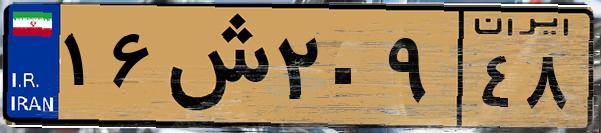0: (330, 28, 385, 110)
1: (57, 26, 110, 100)
2: (270, 28, 330, 110)
4: (475, 38, 525, 113)
6: (110, 28, 158, 98)
8: (525, 38, 570, 115)
9: (385, 28, 445, 110)
ش: (158, 12, 270, 120)
